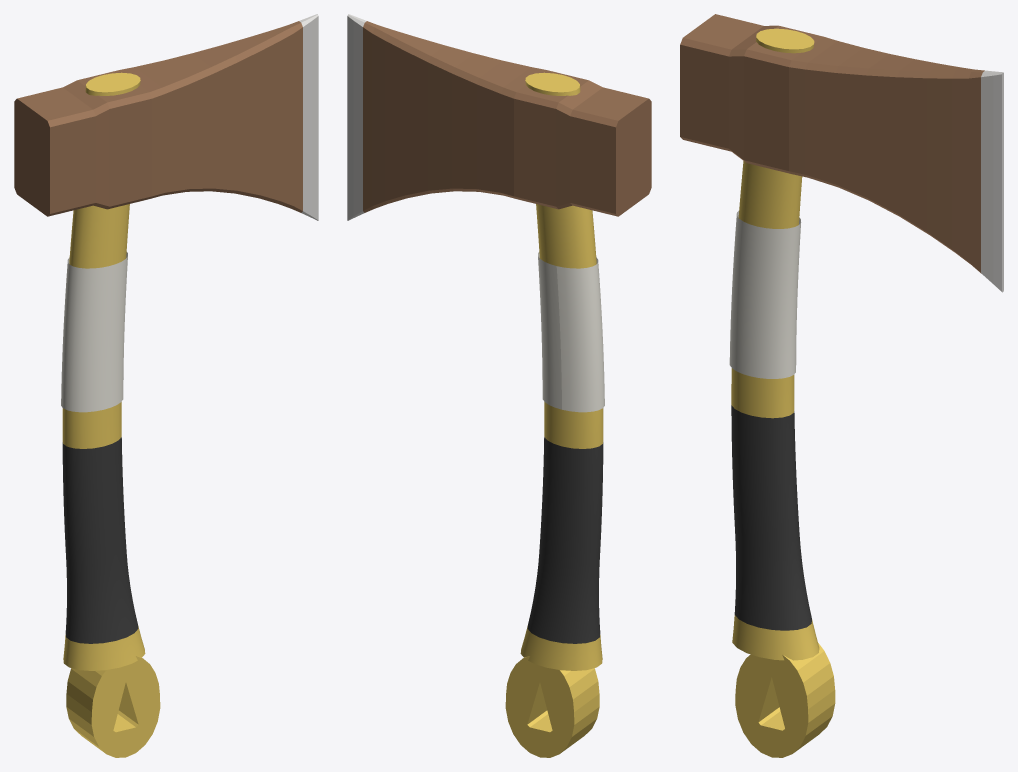
Rendered from Axe.glb.
3 renders of one model, left to right at view 1: azimuth 30°, elevation 25°; view 2: azimuth 150°, elevation 25°; view 3: azimuth 330°, elevation 25°, orthographic. The views are drawn at different scales.
Visible parts, largest first — view 1: Axe; view 2: Axe; view 3: Axe.
Boxes of the visible parts, x1=… form: Axe: x1=14, y1=14, x2=318, y2=757; Axe: x1=347, y1=14, x2=651, y2=757; Axe: x1=680, y1=14, x2=1003, y2=757.
Bounding box in the file's own units: 0.162 × 0.371 × 0.035.
